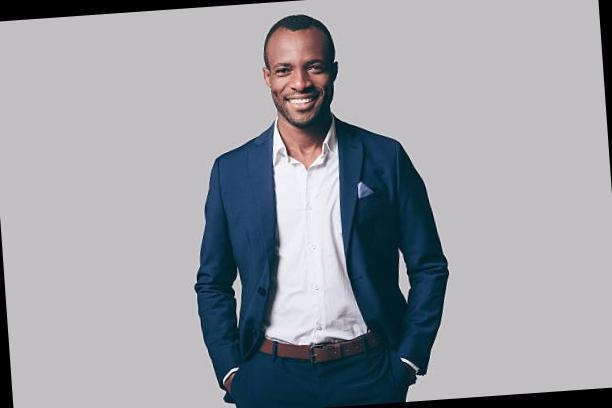Sober: (263, 32, 333, 121)
